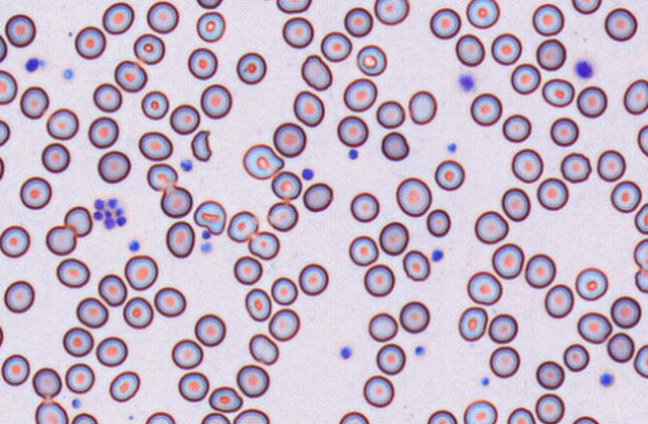PLT: (572, 57, 599, 86), (454, 68, 478, 94), (598, 371, 616, 388), (430, 247, 446, 264), (60, 66, 76, 82), (340, 344, 355, 361), (301, 166, 316, 182), (23, 56, 38, 72), (198, 241, 215, 254), (179, 159, 194, 173), (479, 375, 493, 389), (414, 343, 427, 357), (446, 140, 459, 153), (71, 397, 84, 410), (128, 238, 139, 253), (93, 198, 106, 210), (109, 197, 121, 210), (347, 147, 359, 160), (117, 213, 126, 227), (105, 218, 116, 229), (200, 229, 211, 239), (115, 207, 125, 217), (92, 210, 102, 220), (103, 210, 111, 217)
RBC: (396, 177, 431, 216), (466, 271, 502, 305), (272, 122, 306, 157), (124, 254, 157, 290), (474, 210, 508, 244), (491, 243, 523, 279), (343, 77, 376, 111), (604, 7, 637, 41), (577, 311, 612, 343), (200, 83, 232, 118), (293, 90, 324, 126), (97, 150, 130, 183), (236, 364, 269, 397), (575, 267, 608, 300), (511, 148, 543, 182), (74, 25, 106, 59), (524, 253, 555, 288), (165, 220, 194, 257), (46, 107, 78, 140), (19, 176, 51, 209), (4, 14, 36, 47), (114, 60, 147, 92), (146, 0, 178, 33), (362, 374, 394, 407), (536, 177, 568, 210), (532, 3, 564, 36), (56, 257, 90, 288), (470, 92, 501, 126), (160, 185, 192, 217), (76, 296, 108, 328), (108, 370, 140, 402), (102, 2, 134, 34), (3, 280, 34, 313), (268, 308, 299, 341), (153, 286, 186, 317), (194, 313, 225, 346), (610, 295, 641, 328), (138, 131, 172, 161), (544, 283, 573, 318), (458, 306, 487, 341), (45, 224, 77, 255), (177, 371, 209, 402), (122, 296, 153, 328), (171, 338, 203, 369), (227, 210, 258, 242), (363, 264, 394, 296), (429, 7, 460, 39), (337, 115, 368, 147), (610, 180, 641, 212), (282, 16, 313, 48), (576, 85, 607, 117), (97, 273, 127, 306), (399, 300, 429, 333), (379, 221, 408, 255), (501, 187, 530, 221), (62, 326, 93, 357), (169, 103, 200, 134), (133, 33, 164, 64), (560, 152, 591, 183), (0, 225, 30, 257), (248, 333, 278, 365), (95, 336, 127, 366), (266, 201, 298, 231), (88, 116, 118, 148), (489, 346, 519, 378), (298, 263, 328, 295), (187, 47, 217, 79), (356, 44, 386, 76), (320, 31, 352, 61), (236, 52, 266, 84), (536, 38, 566, 70), (455, 33, 484, 66), (541, 78, 574, 107), (20, 85, 48, 119), (408, 90, 436, 124), (64, 362, 94, 393), (348, 235, 378, 266), (510, 63, 540, 94), (434, 159, 464, 190), (491, 33, 521, 64), (146, 162, 178, 191), (63, 205, 92, 237), (1, 353, 30, 385), (596, 149, 625, 181), (466, 0, 499, 28), (244, 287, 271, 321), (271, 170, 301, 200), (92, 82, 122, 112), (32, 367, 61, 398), (248, 230, 279, 259), (41, 142, 70, 173), (376, 343, 405, 374), (350, 191, 379, 222), (196, 11, 225, 42), (402, 249, 430, 281), (208, 386, 242, 412), (374, 0, 409, 25), (488, 313, 517, 343), (367, 312, 397, 341), (302, 182, 332, 211), (535, 393, 564, 423), (623, 78, 647, 114), (140, 90, 169, 119), (233, 255, 262, 284), (535, 360, 564, 389), (502, 113, 531, 142), (344, 7, 372, 37), (463, 399, 497, 423), (376, 100, 405, 128), (381, 131, 409, 160), (550, 117, 578, 146), (607, 332, 634, 362), (270, 276, 297, 305), (34, 400, 68, 423), (563, 343, 589, 371), (426, 208, 450, 236), (0, 69, 17, 104), (232, 408, 269, 423), (633, 344, 647, 378), (506, 407, 535, 423), (633, 238, 647, 271), (276, 0, 311, 13), (426, 409, 457, 423), (571, 0, 601, 14), (634, 202, 647, 234), (144, 411, 175, 423), (338, 411, 369, 423), (200, 412, 230, 423), (637, 124, 647, 156), (634, 269, 647, 293), (71, 412, 97, 423), (0, 119, 10, 146), (196, 0, 222, 9), (572, 415, 599, 423), (0, 34, 7, 62), (0, 156, 5, 181), (0, 323, 4, 348)
Schistocyte: (243, 144, 285, 180), (301, 54, 333, 92), (194, 200, 227, 236), (191, 129, 214, 164)
